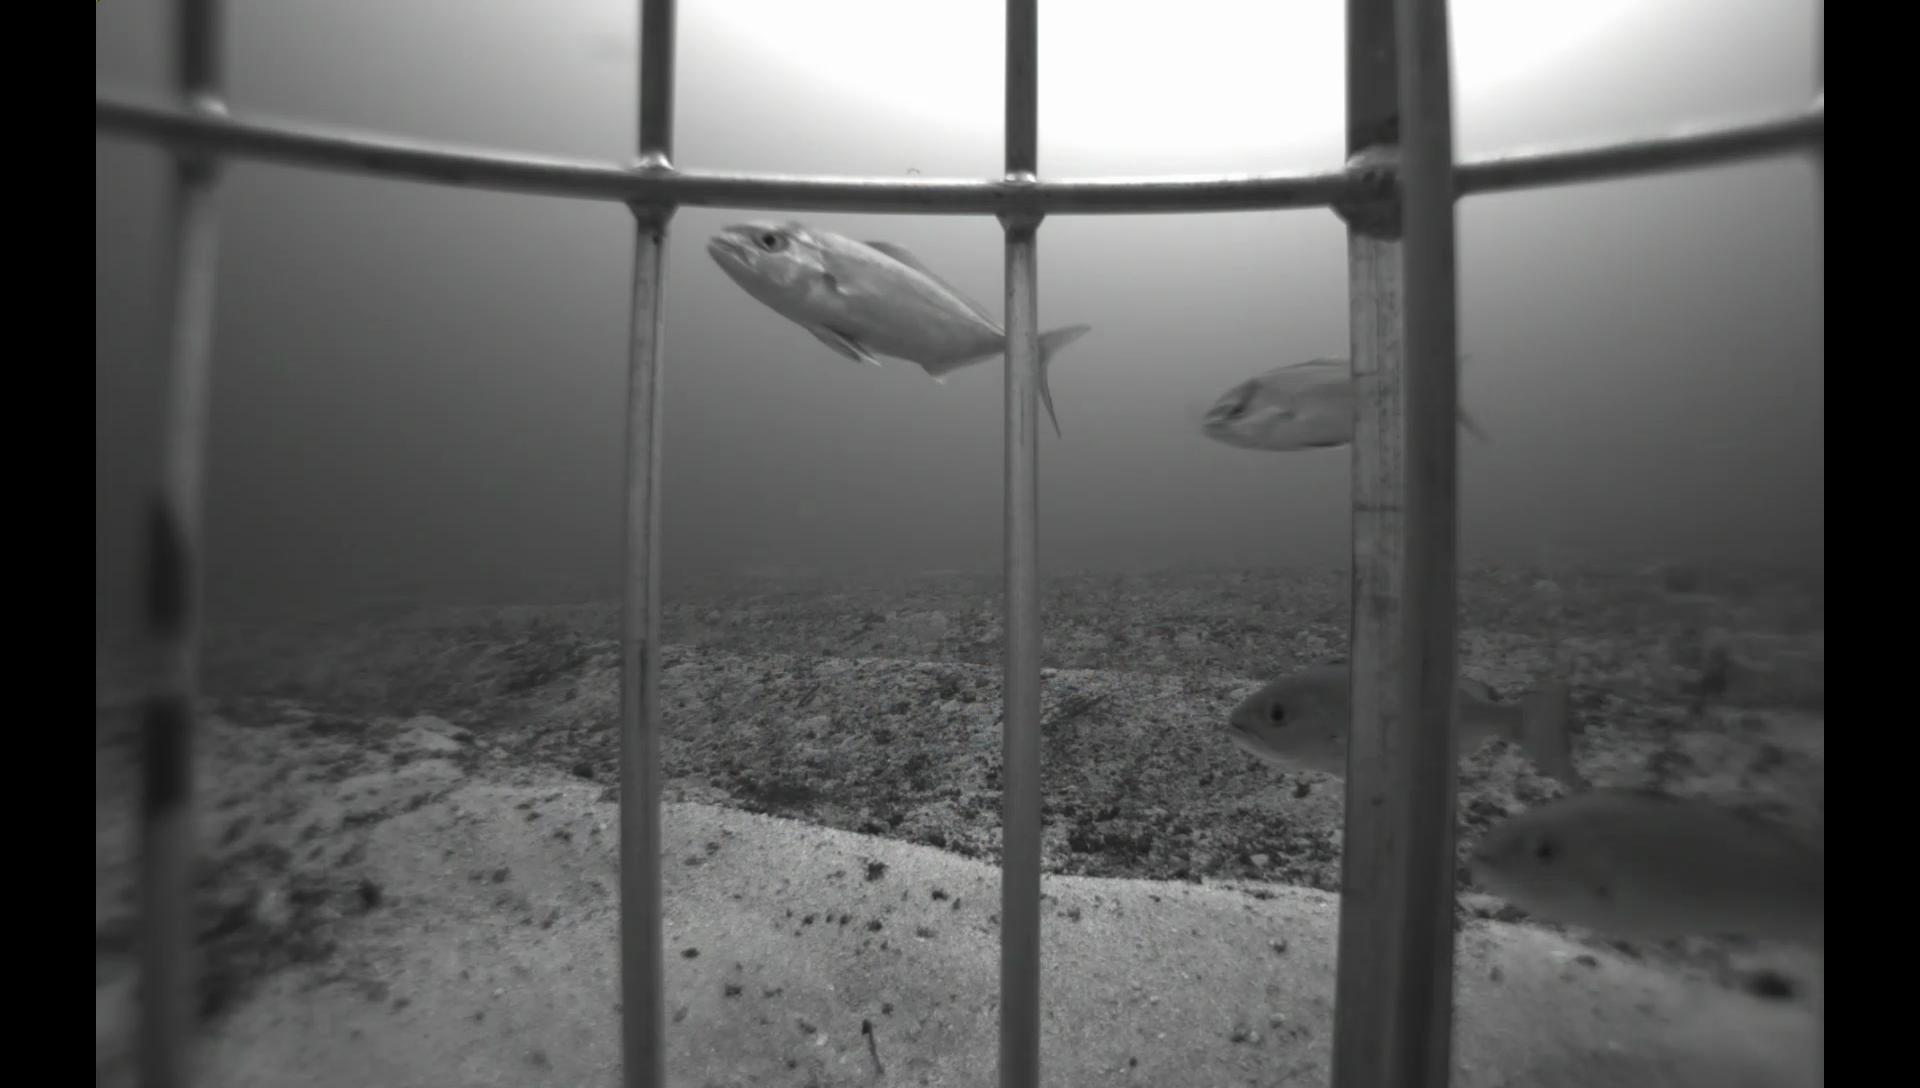RHOMBOPLITESAURORUBENS-170152001: (1456, 786, 1824, 976), (1215, 644, 1586, 801)
SERIOLAFASCIATA-170113103: (696, 210, 1106, 455), (1187, 338, 1503, 466)
